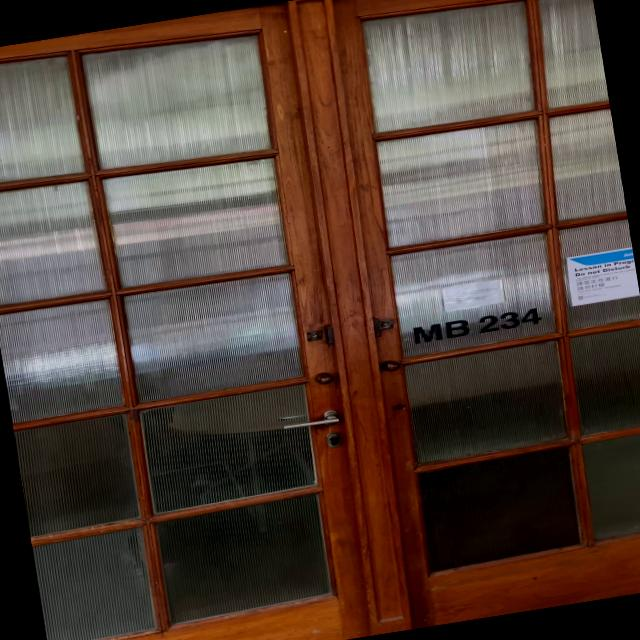room234Window: (404, 302, 552, 349)
